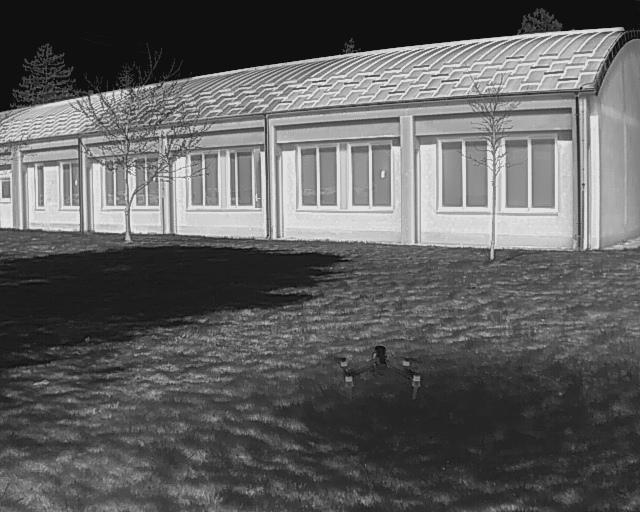drone: (330, 329, 435, 414)
